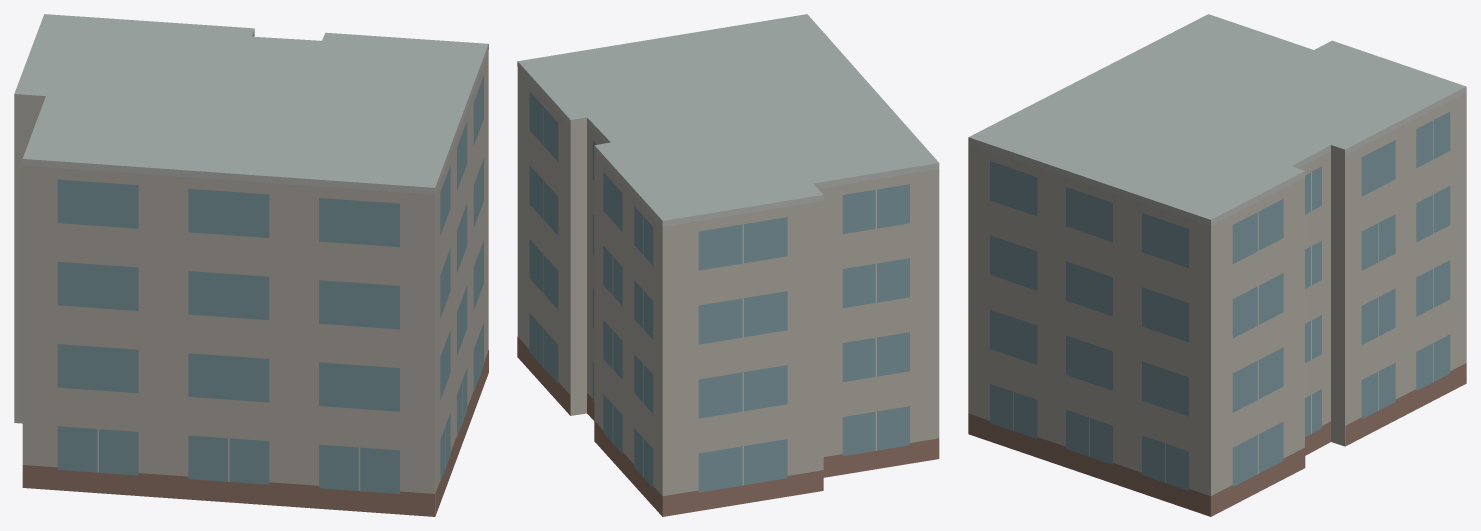
Rendered from survey-upis-32932898.glb.
3 renders of one model, left to right at view 1: azimuth 30°, elevation 25°; view 2: azimuth 150°, elevation 25°; view 3: azimuth 270°, elevation 25°, orthographic. The views are drawn at different scales.
Parts seen in each view (by area): view 1: survey-upis-32932898.tmp; view 2: survey-upis-32932898.tmp; view 3: survey-upis-32932898.tmp.
Part boxes in pixels (bbox=[...]): survey-upis-32932898.tmp: bbox=[14, 14, 488, 516]; survey-upis-32932898.tmp: bbox=[517, 14, 939, 516]; survey-upis-32932898.tmp: bbox=[968, 14, 1466, 516].
Size of the model in its own units: 18 by 12.1 by 18.4.
